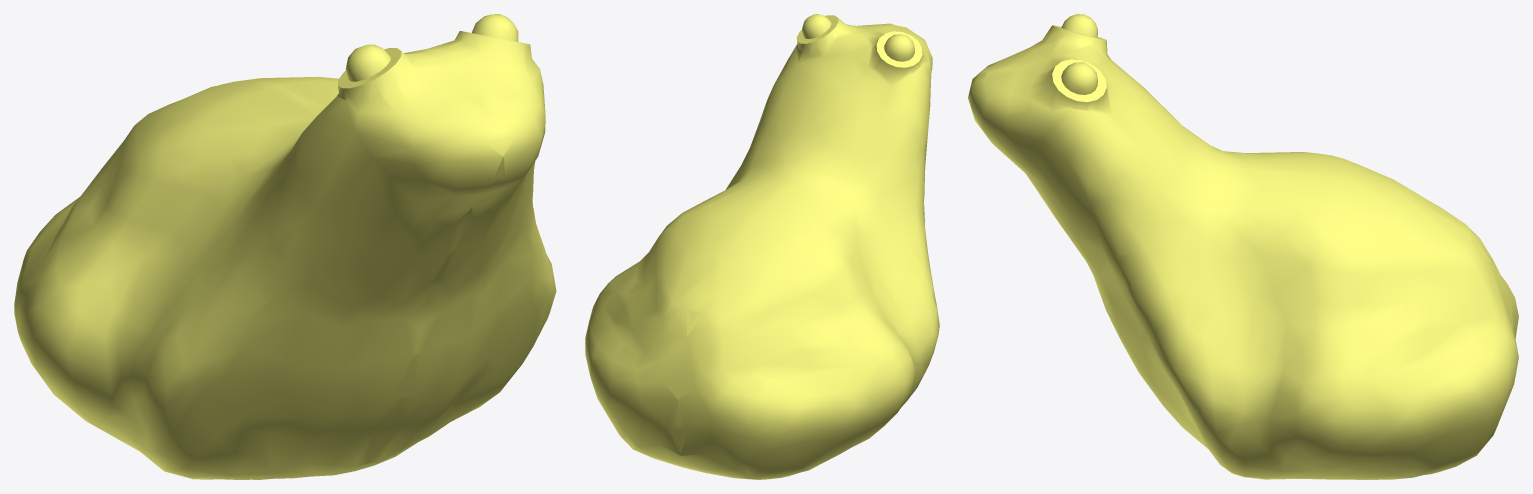
3 renders of one model, left to right at view 1: azimuth 30°, elevation 25°; view 2: azimuth 150°, elevation 25°; view 3: azimuth 270°, elevation 25°, orthographic. The views are drawn at different scales.
Parts seen in each view (by area): view 1: 33320.dat; view 2: 33320.dat; view 3: 33320.dat.
Part boxes in pixels (bbox=[...]): 33320.dat: bbox=[14, 14, 556, 479]; 33320.dat: bbox=[585, 14, 939, 479]; 33320.dat: bbox=[968, 14, 1518, 479].
Size of the model in its own units: 0.00904 by 0.00907 by 0.0116.
